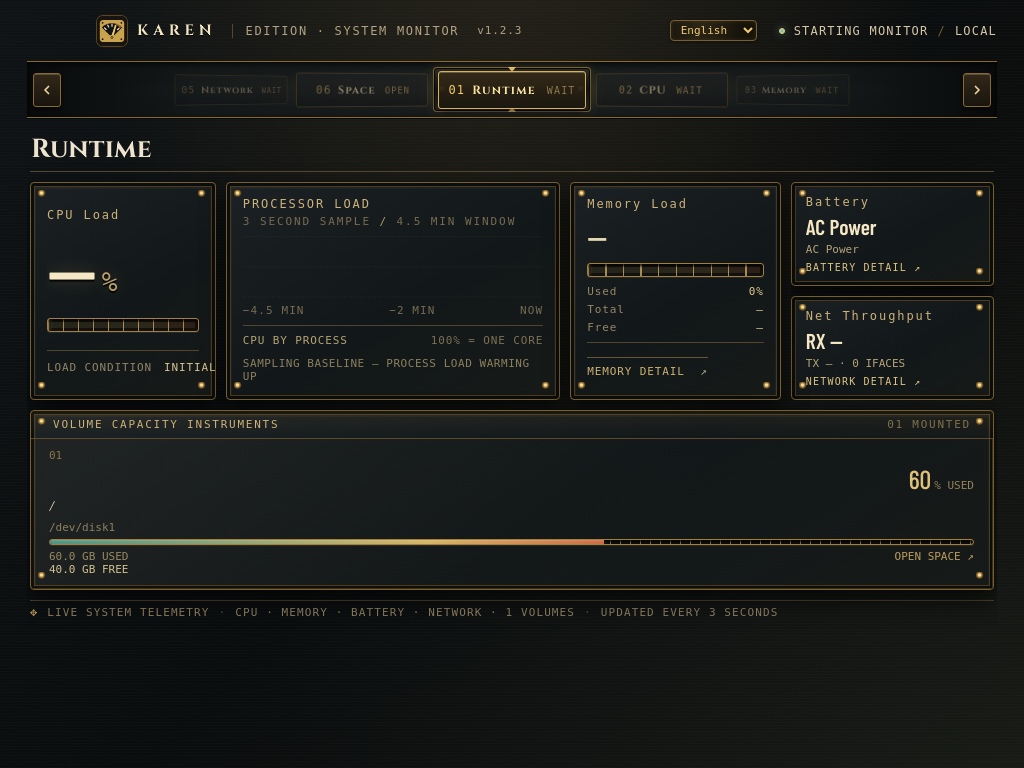
Test: Karen desktop interface › shows scan errors and leaves the scan idle
The image size is (1024, 768).
Click the button "06 Space OPEN" at coordinates (362, 90), box x1=296 y1=72 x2=428 y2=107
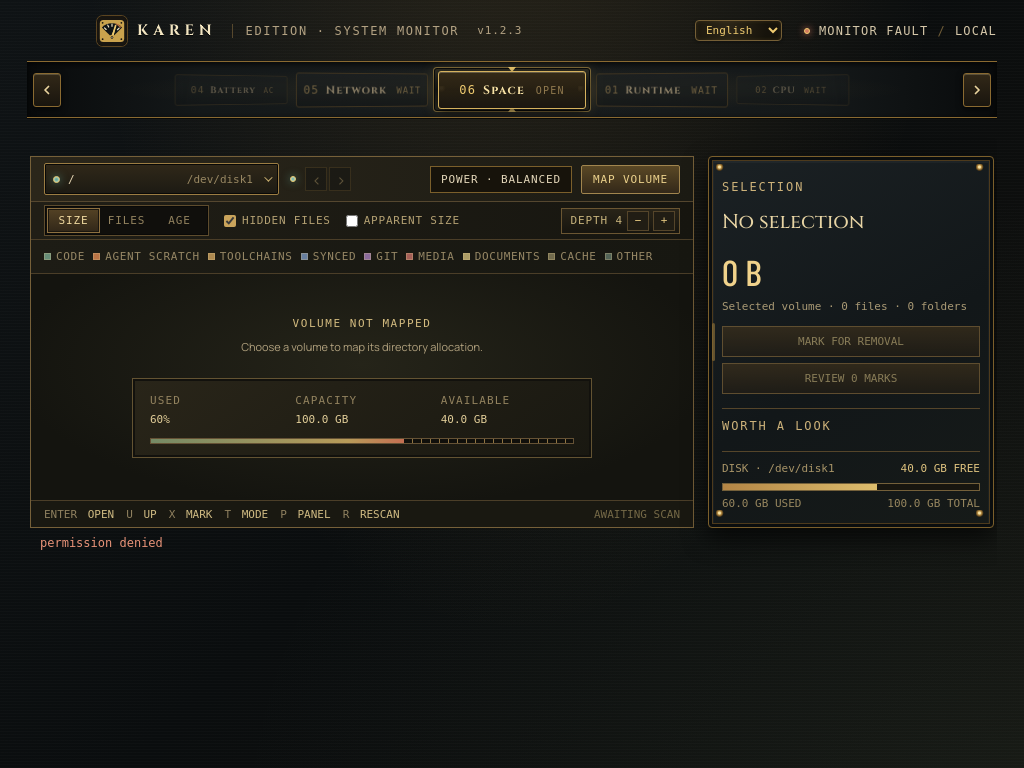
Check: the text "permission denied" is shown, box x1=40 y1=536 x2=163 y2=550
